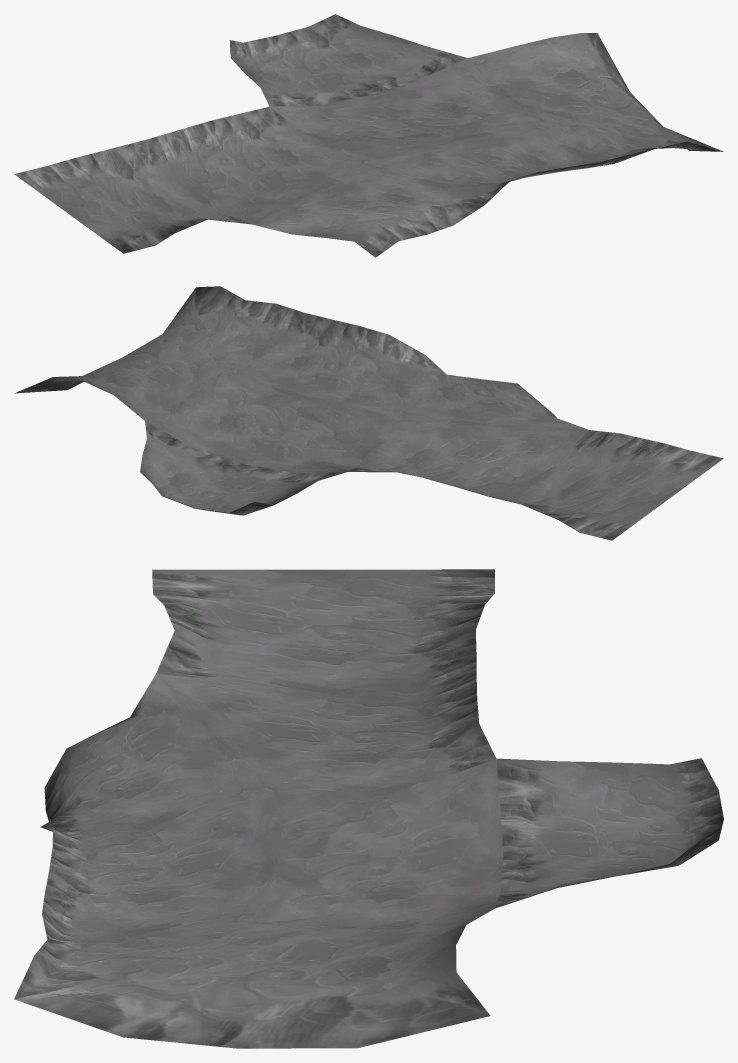
File: SWORDLIGHT20_PS-AREA03_130.fbx
3 renders of one model, top to bottom at view 1: azimuth 30°, elevation 25°; view 2: azimuth 150°, elevation 25°; view 3: azimuth 270°, elevation 25°, orthographic. The views are drawn at different scales.
Visible parts, largest first — view 1: SWORDLIGHT20_PS-AREA03_130; view 2: SWORDLIGHT20_PS-AREA03_130; view 3: SWORDLIGHT20_PS-AREA03_130.
Boxes of the visible parts, x1=… form: SWORDLIGHT20_PS-AREA03_130: x1=14, y1=14, x2=723, y2=257; SWORDLIGHT20_PS-AREA03_130: x1=15, y1=286, x2=723, y2=540; SWORDLIGHT20_PS-AREA03_130: x1=14, y1=569, x2=723, y2=1048.
Bounding box in the file's own units: 184967 × 15612 × 124281.
Materials: 5 (5 with a texture image).
